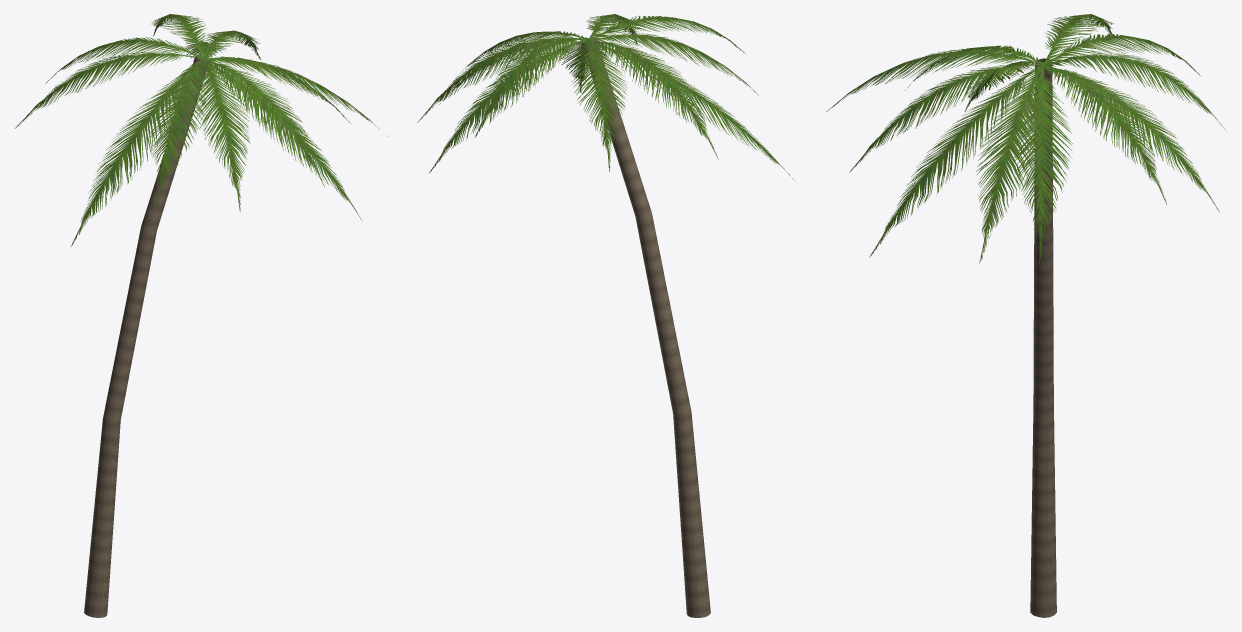
File: CoconutPalm_LOD0.fbx
The picture shows the model from 3 angles, left to right: view 1: azimuth 30°, elevation 25°; view 2: azimuth 150°, elevation 25°; view 3: azimuth 270°, elevation 25°; orthographic projection. The views are drawn at different scales.
Visible parts, largest first — view 1: CoconutPalm_LOD0; view 2: CoconutPalm_LOD0; view 3: CoconutPalm_LOD0.
Part boxes in pixels (x1=…): CoconutPalm_LOD0: x1=15, y1=14, x2=387, y2=617; CoconutPalm_LOD0: x1=417, y1=14, x2=796, y2=617; CoconutPalm_LOD0: x1=826, y1=14, x2=1226, y2=617.
Size of the model in its own units: 9.13 by 14.54 by 8.54.
Materials: 1 (1 with a texture image).
